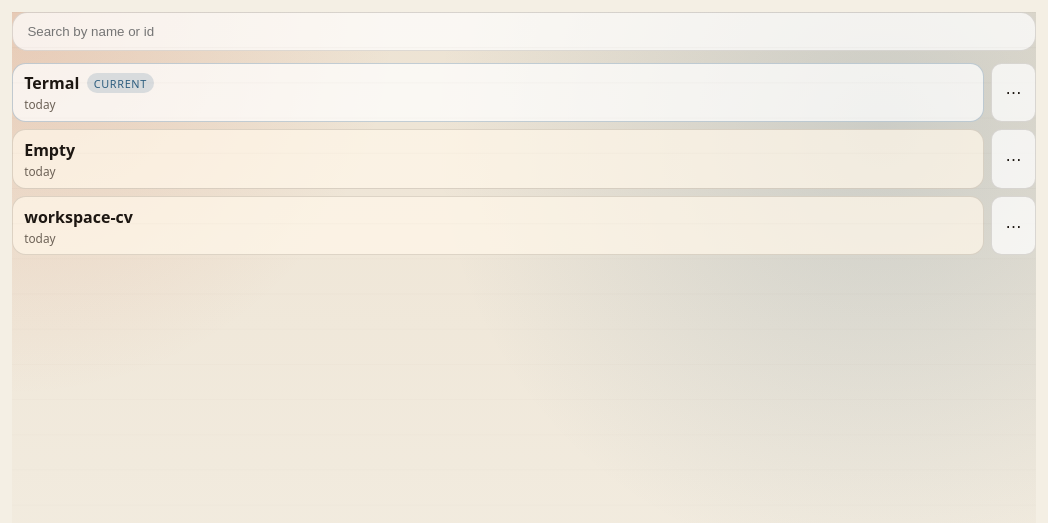
saved workspace new-tab links › dismisses from the native click that follows Enter, not from keydown alone
The width and height of the screenshot is (1048, 523).
Step 1. Click the button named "Actions for workspace Empty" → point(1013, 159), box [991,129,1036,189]
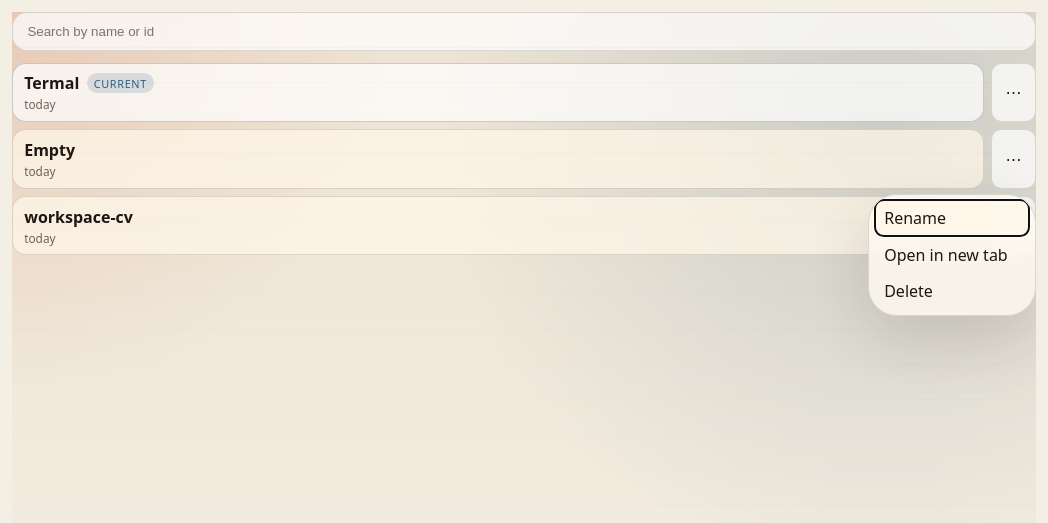
Step 2. Press Enter in the menu item with aria-label "Open in new tab: workspace Empty", box [884,244,1008,266]
Check: the menu is shown, box [868,194,1036,316]
Step 3. Click the menu item with aria-label "Open in new tab: workspace Empty" → point(946, 255), box [884,244,1008,266]
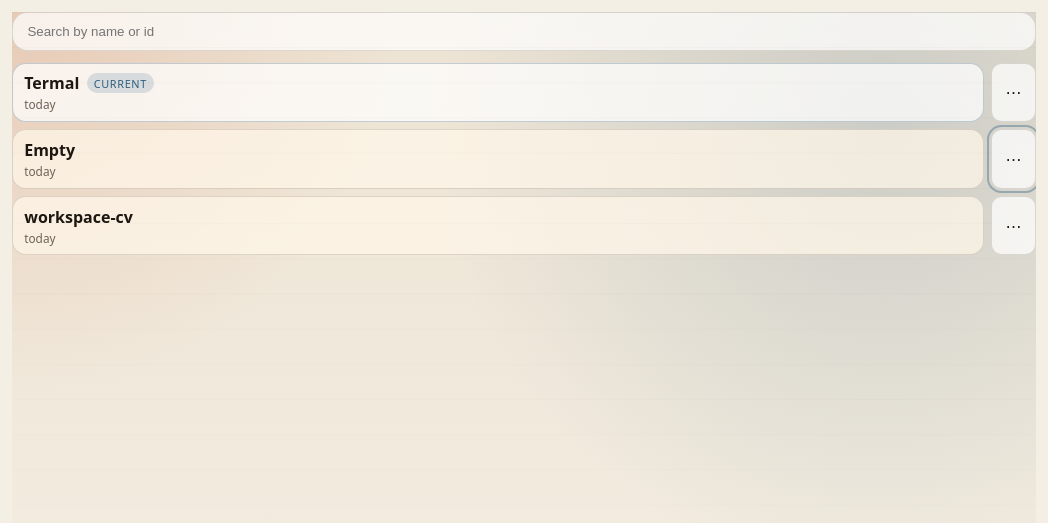
Check: the menu is gone
